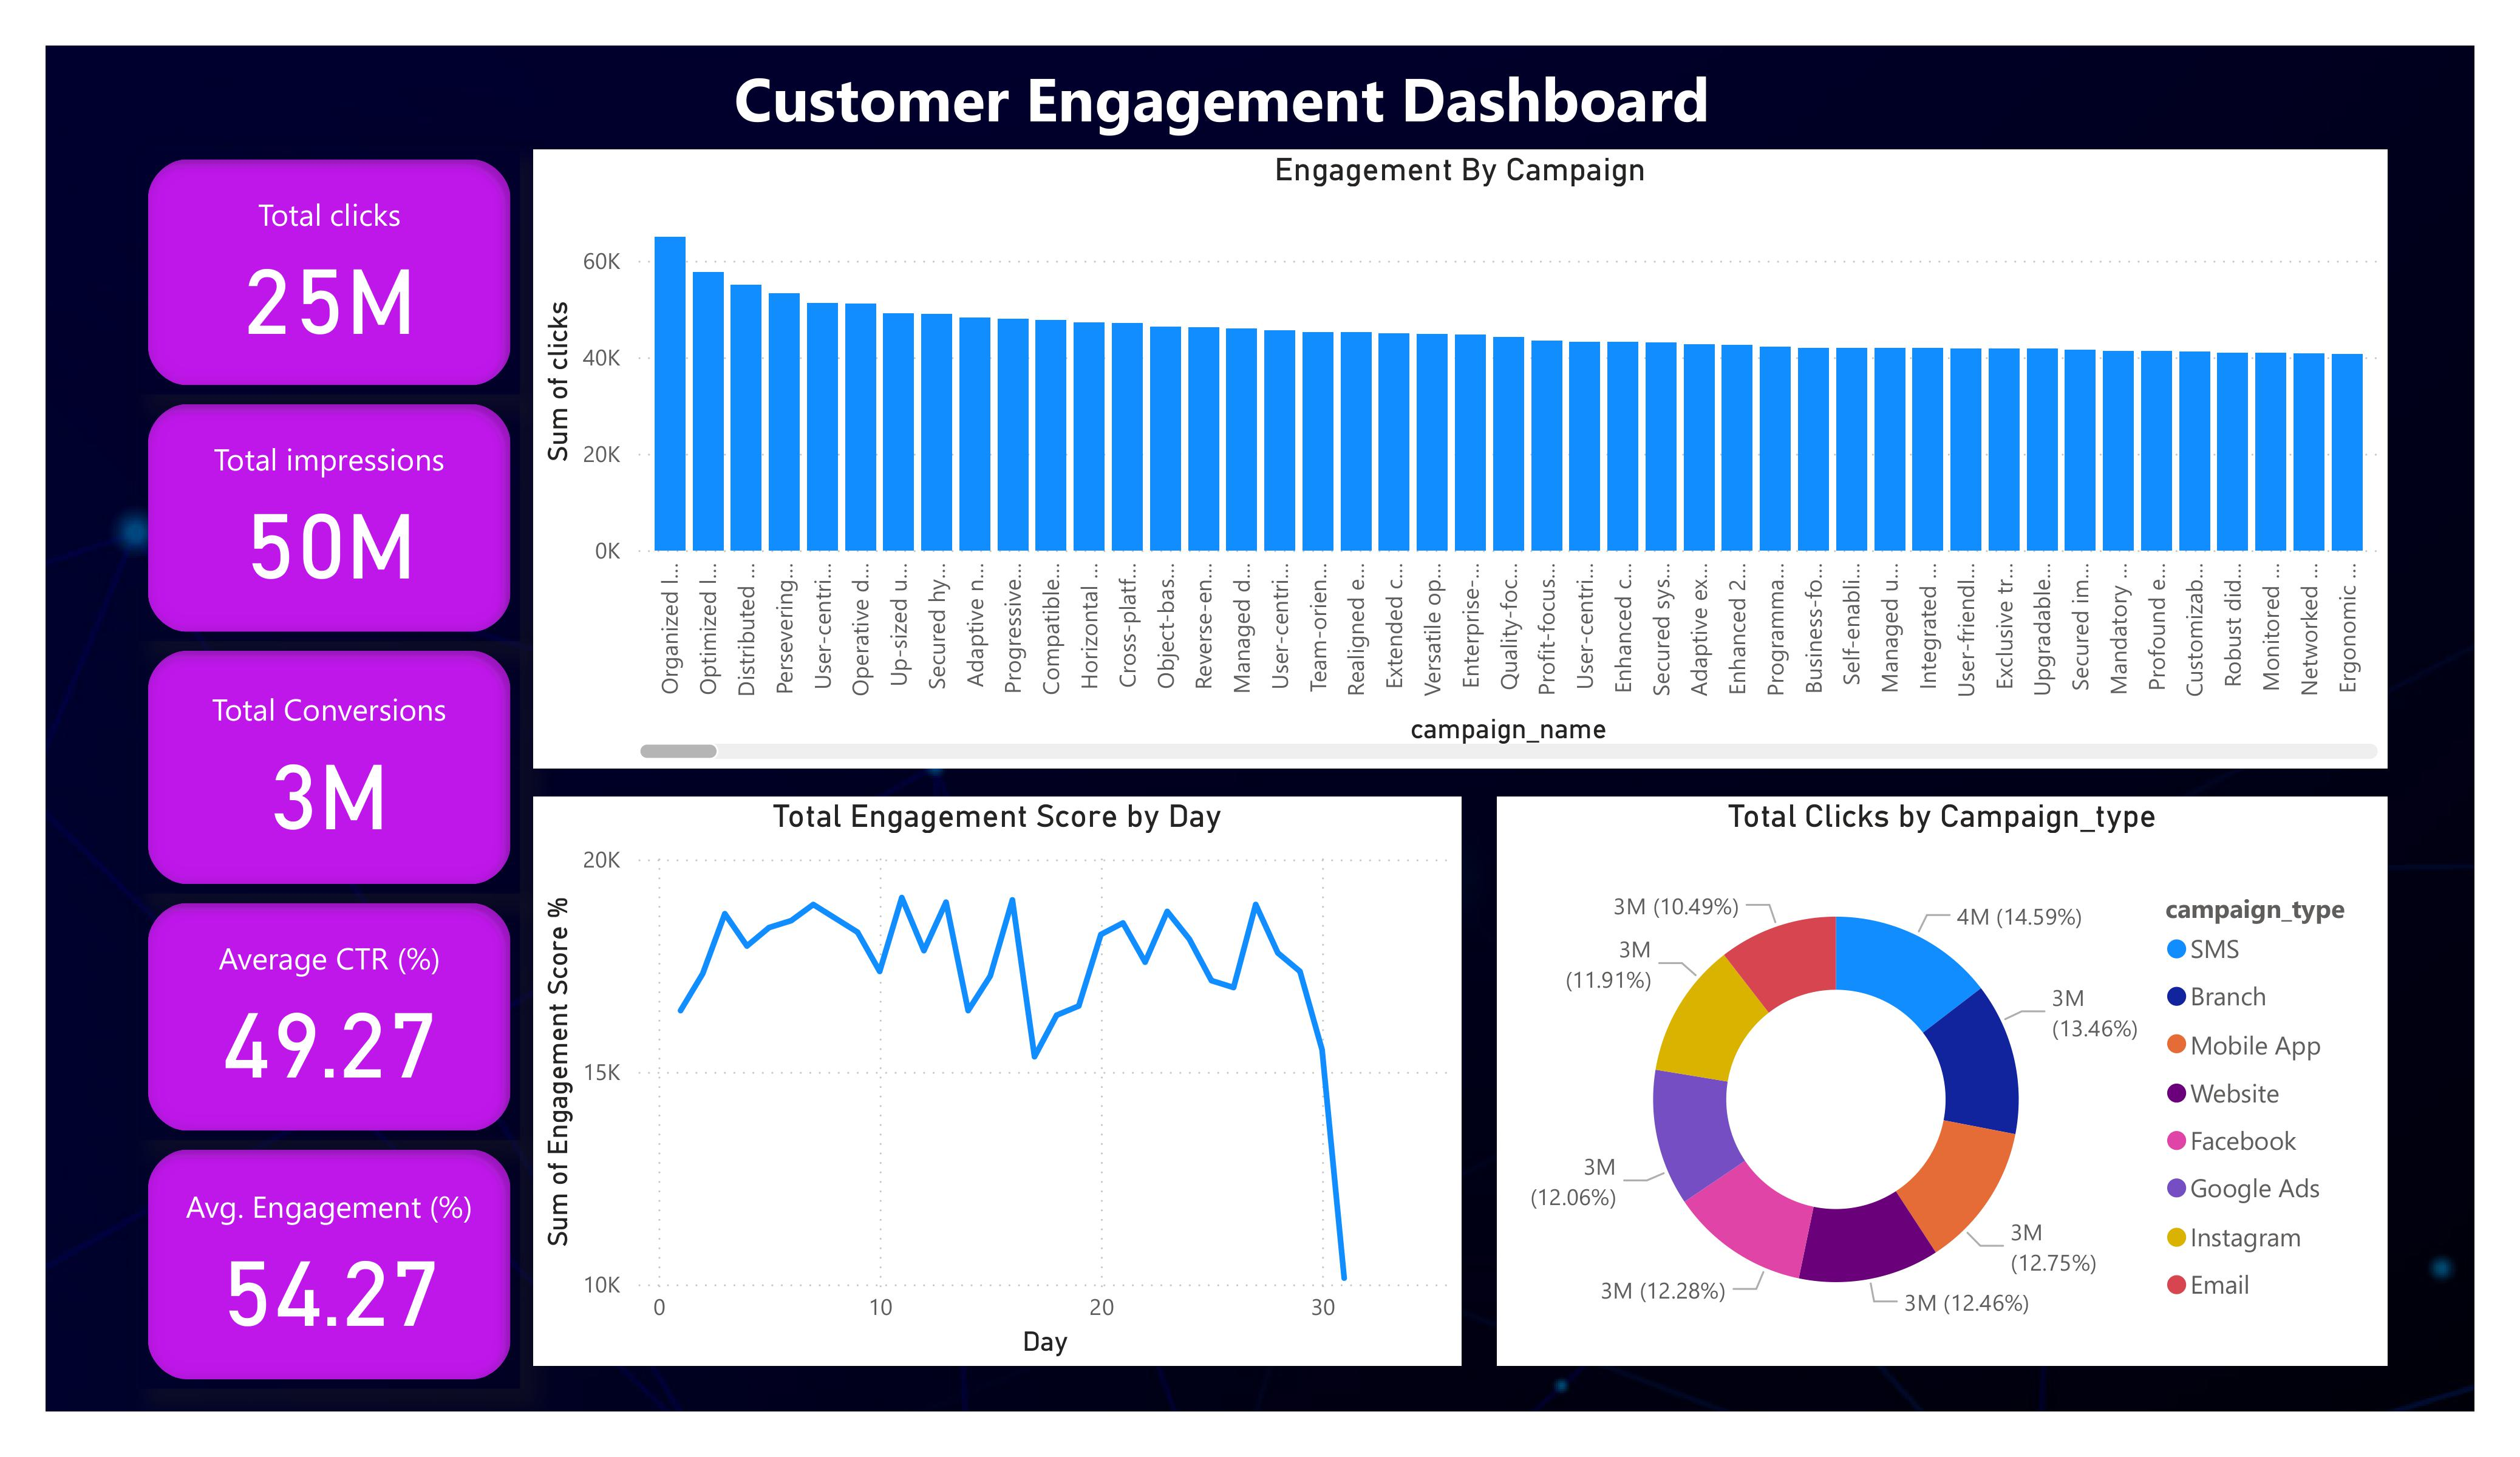

The page's visual inventory and layout, read from the dashboard file:
{"tool":"powerbi","page":{"name":"Customer Engagement Dashboard","canvas":[1280,720],"ordinal":2},"visuals":[{"type":"textbox","box":[358.2,0,562.7,55.5],"z":0},{"type":"cardVisual","fields":{"Data":["Sum(Fact_CampaignPerformance.clicks)"]},"box":[49,55.5,200.9,128.2],"z":1000},{"type":"cardVisual","fields":{"Data":["Sum(Fact_CampaignPerformance.impressions)"]},"box":[49,183.6,200.9,130],"z":2000},{"type":"cardVisual","fields":{"Data":["Sum(Fact_CampaignPerformance.conversions)"]},"box":[49,313.6,200.9,133.6],"z":3000},{"type":"cardVisual","fields":{"Data":["Avg(Fact_CampaignPerformance.CTR (%))"]},"box":[49,447.3,200.9,130],"z":4000},{"type":"cardVisual","fields":{"Data":["Avg(Fact_CampaignPerformance.Engagement Score %)"]},"box":[49,577.3,200.9,130.9],"z":5000},{"type":"clusteredColumnChart","title":"Engagement By Campaign","fields":{"Category":["Dim_Campaigns.campaign_name"],"Y":["Sum(Fact_CampaignPerformance.clicks)"]},"box":[257.2,55.5,977.3,325.5],"z":6000},{"type":"lineChart","title":"Total Engagement Score by Day","fields":{"Category":["Dim_Date.full_date.Variation.Date Hierarchy.Day"],"Y":["Sum(Fact_CampaignPerformance.Engagement Score %)"]},"box":[257.2,396.4,489.1,300],"z":7000},{"type":"donutChart","title":"Total Clicks by Campaign_type","fields":{"Category":["Dim_Campaigns.campaign_type"],"Y":["Sum(Fact_CampaignPerformance.clicks)"]},"box":[765.4,396.4,469.1,300],"z":8000}]}

Visuals, with their boxes on the page's 1280x720 design canvas (x1, y1, x2, y2). These are canvas units, not pixel positions in the 2520x1457 screenshot, which may show the page scaled, cropped or inside an application window:
textbox: locate(358, 0, 921, 56)
cardVisual - Sum(Fact_CampaignPerformance.clicks): locate(49, 56, 250, 184)
cardVisual - Sum(Fact_CampaignPerformance.impressions): locate(49, 184, 250, 314)
cardVisual - Sum(Fact_CampaignPerformance.conversions): locate(49, 314, 250, 447)
cardVisual - Avg(Fact_CampaignPerformance.CTR (%)): locate(49, 447, 250, 577)
cardVisual - Avg(Fact_CampaignPerformance.Engagement Score %): locate(49, 577, 250, 708)
"Engagement By Campaign" clusteredColumnChart: locate(257, 56, 1234, 381)
"Total Engagement Score by Day" lineChart: locate(257, 396, 746, 696)
"Total Clicks by Campaign_type" donutChart: locate(765, 396, 1234, 696)
